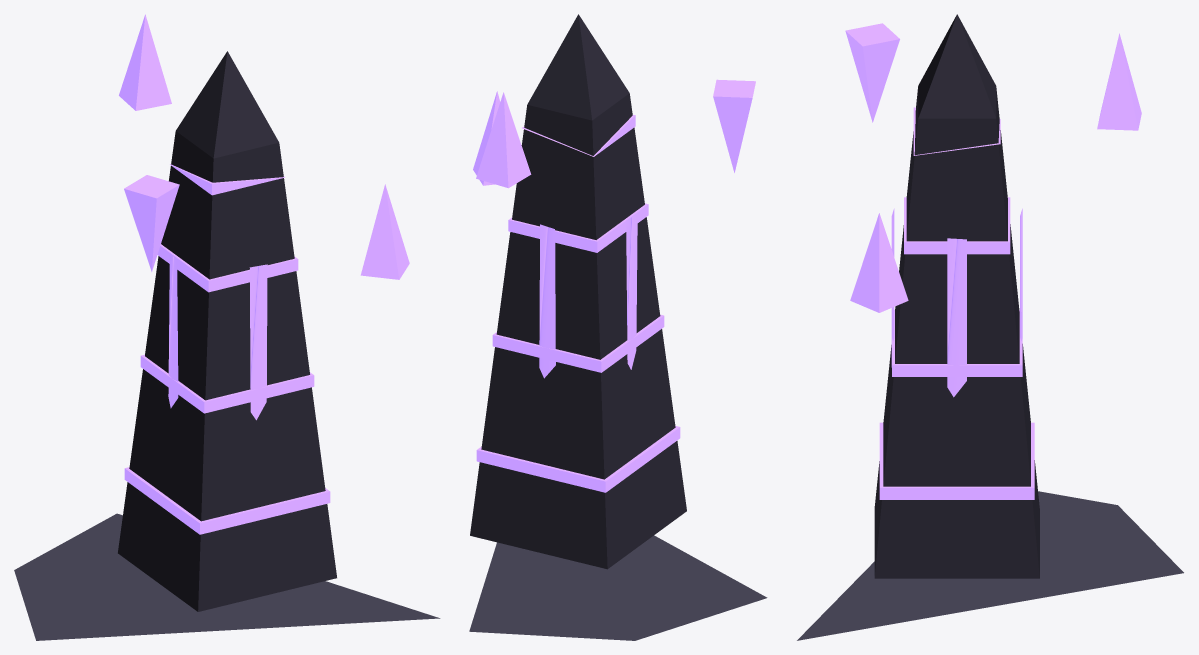
The model's file is rift_obelisk_lod2.glb.
3 renders of one model, left to right at view 1: azimuth 30°, elevation 25°; view 2: azimuth 150°, elevation 25°; view 3: azimuth 270°, elevation 25°, orthographic. The views are drawn at different scales.
Parts seen in each view (by area): view 1: prop.rift_obelisk; view 2: prop.rift_obelisk; view 3: prop.rift_obelisk.
Boxes of the visible parts, box(x1,y1,x2,y2) form: prop.rift_obelisk: box(14, 14, 440, 640); prop.rift_obelisk: box(469, 14, 767, 640); prop.rift_obelisk: box(797, 14, 1183, 640).
Size of the model in its own units: 1.28 by 1.98 by 1.24.
